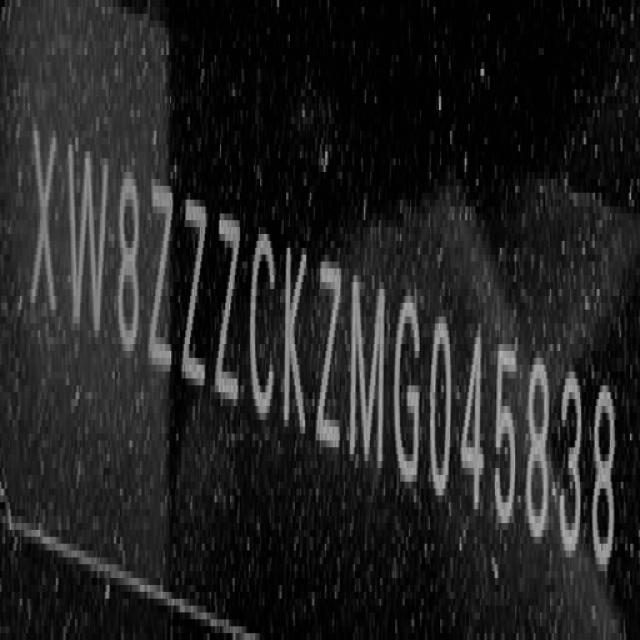0: (428, 307, 454, 512)
3: (558, 367, 583, 568)
4: (462, 321, 488, 522)
5: (496, 335, 520, 533)
8: (592, 374, 620, 572), (117, 161, 142, 371), (526, 351, 552, 547)
C: (250, 217, 276, 428)
G: (390, 283, 424, 505)
K: (282, 231, 308, 443)
M: (347, 267, 388, 481)
W: (65, 141, 111, 354)
X: (30, 112, 59, 335)
Z: (316, 244, 344, 466), (214, 198, 242, 414), (150, 170, 177, 383), (184, 182, 209, 400)
